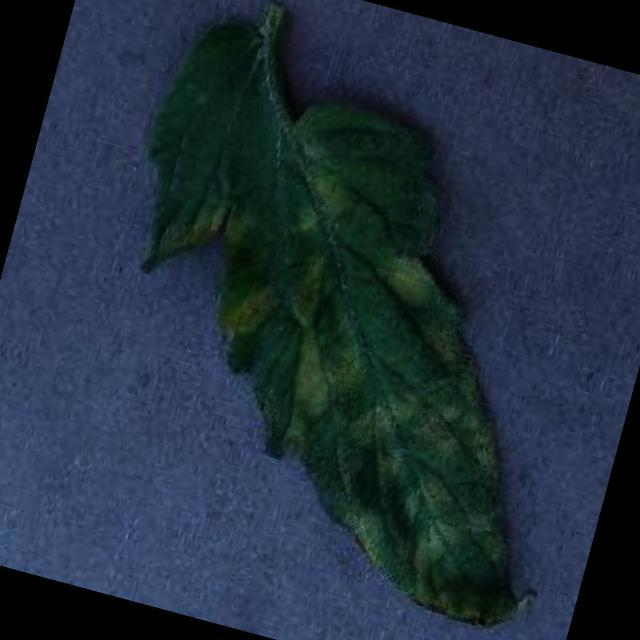Tomato mold leaf: (51, 5, 640, 640)
